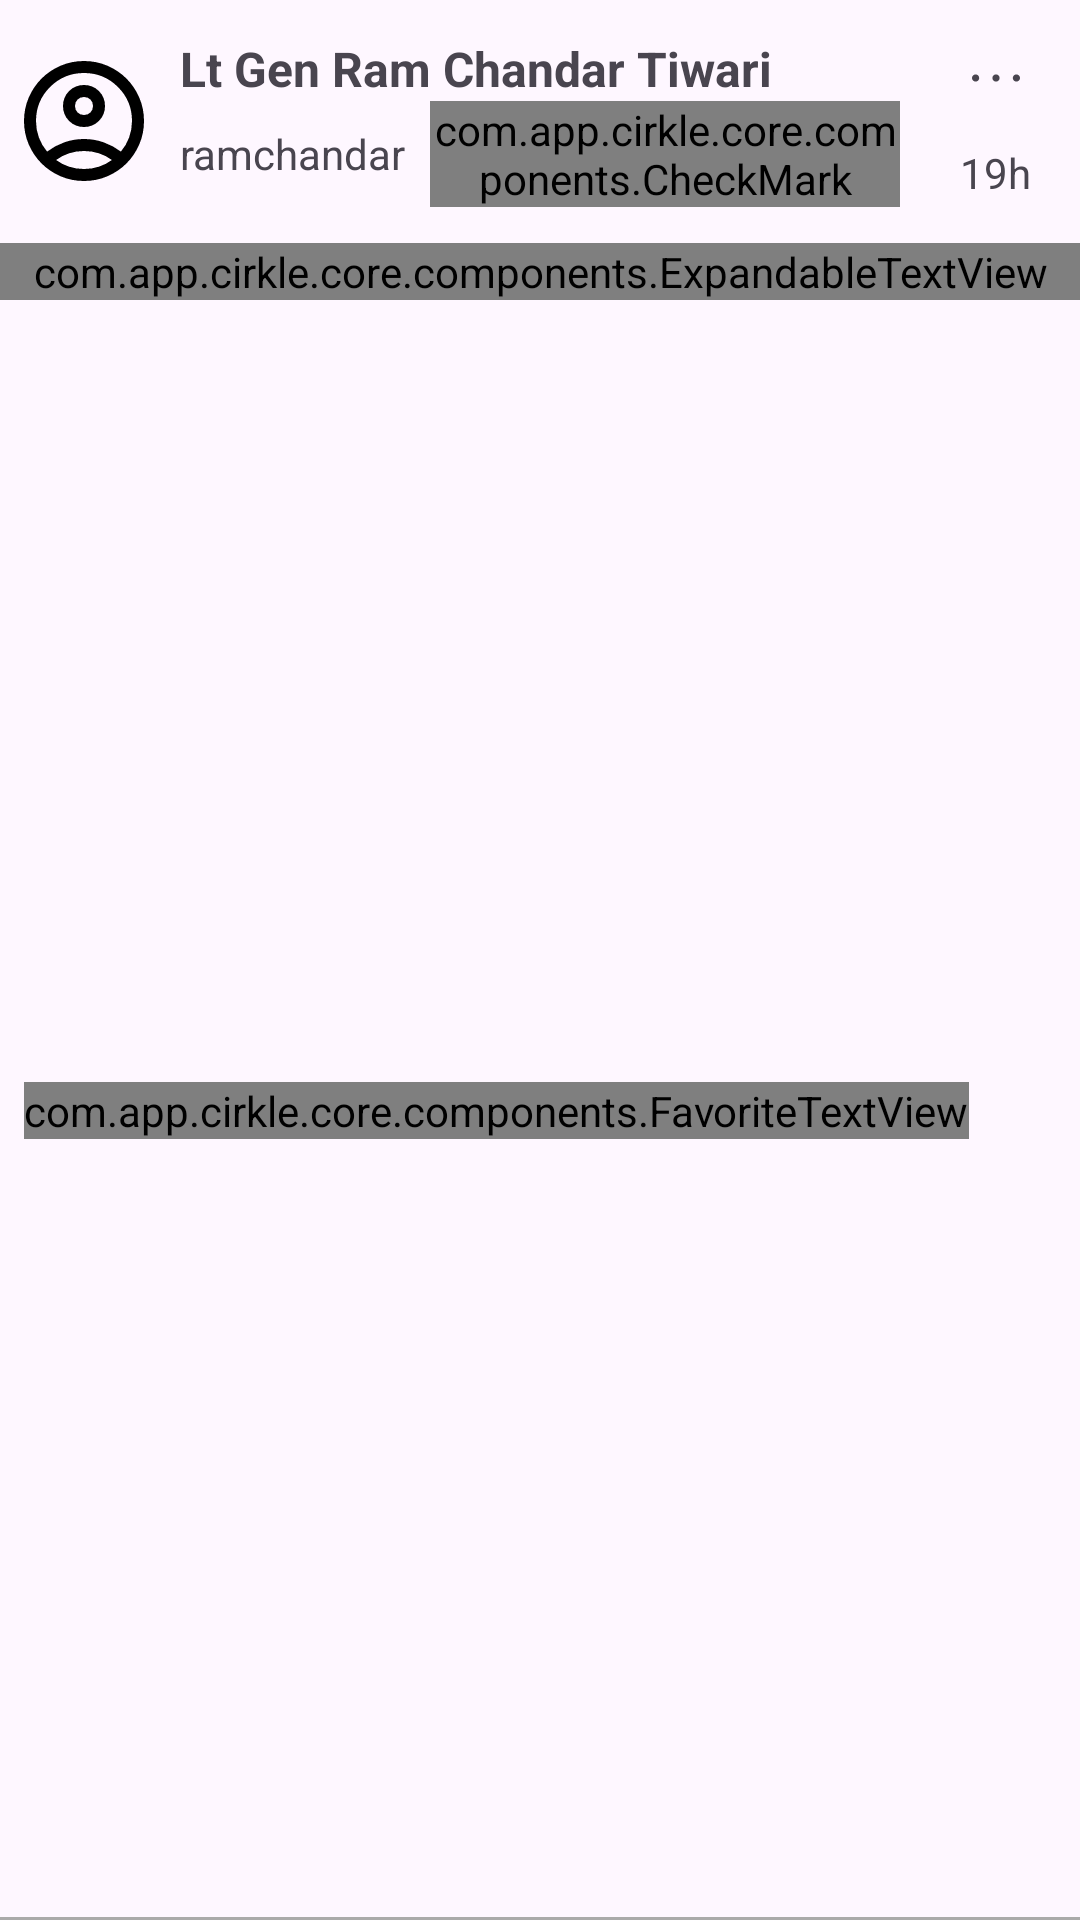

Icon bounding boxes for this 1080*1920 phone screenshot, format (x1, y1, x2, y2):
account circle: (24, 61, 144, 181)
